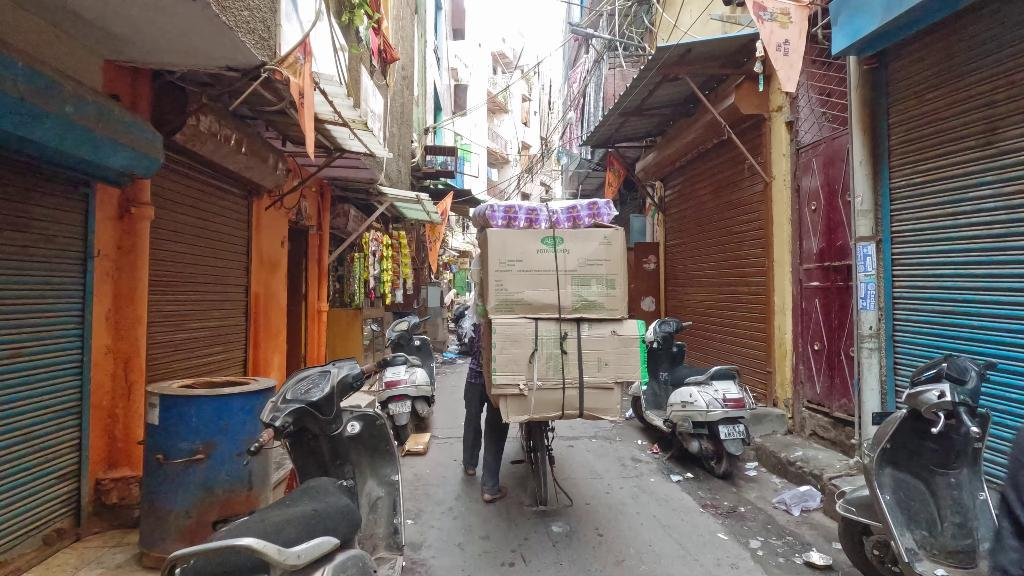garbage: (772, 485, 825, 520), (803, 548, 835, 569), (669, 474, 683, 483), (745, 462, 759, 468)
